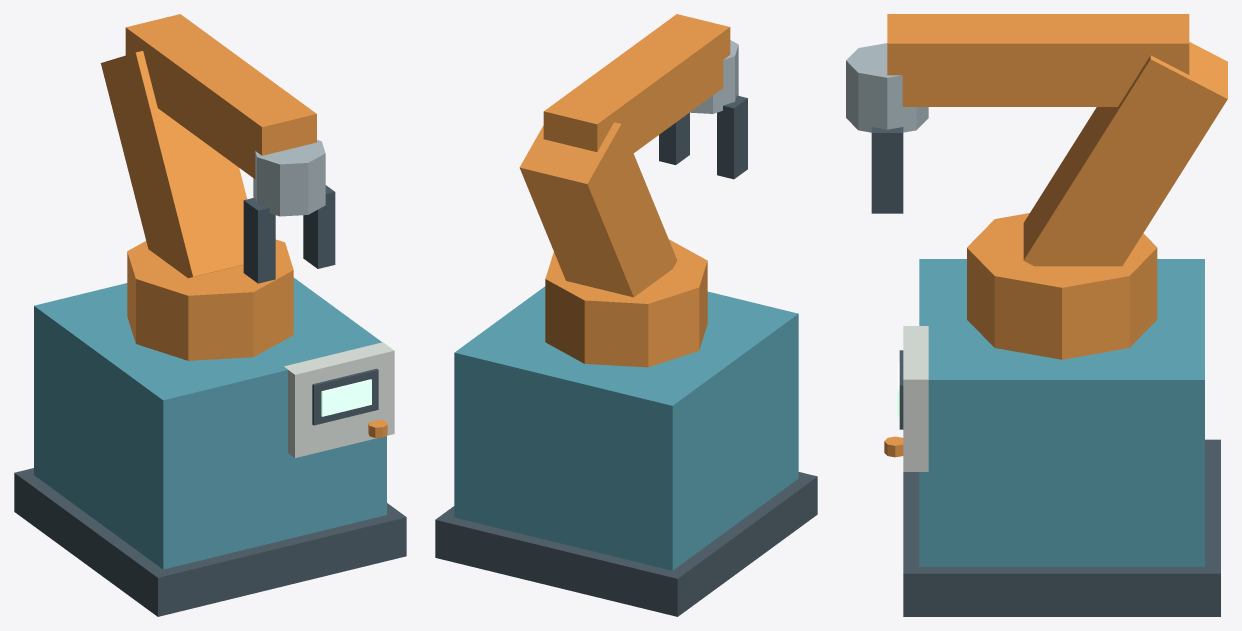
The model's file is robot-assembly-arm.glb.
3 views of the same model, side by side, from view 1: azimuth 30°, elevation 25°; view 2: azimuth 150°, elevation 25°; view 3: azimuth 270°, elevation 25° (orthographic). The views are drawn at different scales.
Parts seen in each view (by area): view 1: blue, orange, dark, cream, steel, light; view 2: blue, orange, dark, steel; view 3: blue, orange, dark, steel, cream.
Boxes of the visible parts, box(x1,y1,x2,y2) form: blue: box(34, 277, 386, 569); orange: box(100, 14, 387, 437); dark: box(14, 185, 406, 616); cream: box(283, 342, 394, 457); steel: box(253, 140, 325, 216); light: box(321, 379, 371, 416); blue: box(454, 286, 798, 570); orange: box(519, 14, 730, 367); dark: box(435, 95, 817, 616); steel: box(690, 40, 738, 113); blue: box(919, 259, 1204, 566); orange: box(884, 14, 1227, 457); dark: box(871, 127, 1220, 616); steel: box(846, 43, 928, 132); cream: box(903, 326, 928, 471).
Size of the model in its own units: 1 by 1.81 by 1.2.
